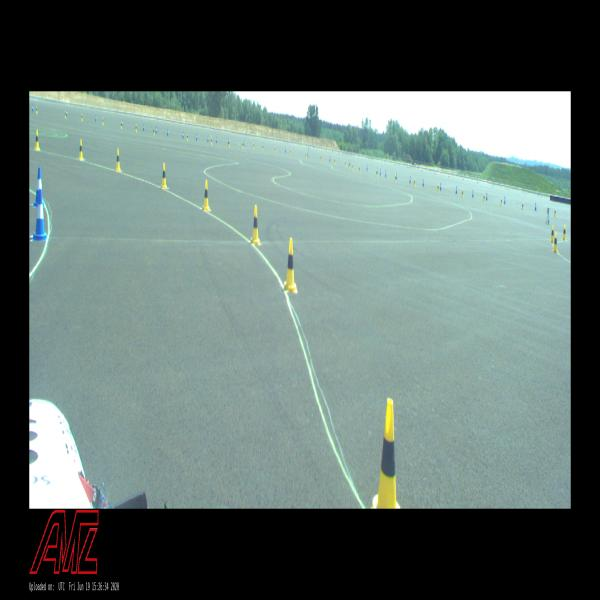blue_cone: (34, 189, 46, 240), (34, 167, 45, 206), (503, 196, 506, 204), (485, 192, 488, 200), (422, 178, 424, 187), (409, 175, 411, 184), (66, 109, 68, 118), (143, 123, 145, 131), (167, 128, 169, 136), (456, 186, 458, 194), (472, 190, 474, 198), (207, 134, 209, 142), (32, 104, 34, 112), (534, 202, 536, 210), (440, 182, 442, 190), (349, 158, 351, 166), (95, 114, 97, 121), (366, 164, 368, 171), (329, 156, 331, 163), (243, 139, 245, 146), (307, 151, 309, 157), (216, 136, 217, 144), (196, 133, 197, 141), (156, 126, 157, 134), (385, 170, 386, 178), (380, 168, 381, 176), (122, 120, 123, 128), (228, 136, 229, 144), (377, 166, 378, 174), (183, 131, 184, 138), (285, 146, 286, 153), (396, 173, 397, 180)
yellow_cone: (372, 399, 400, 508), (284, 238, 296, 290), (251, 205, 260, 244), (202, 180, 210, 210), (161, 163, 167, 189), (115, 148, 121, 172), (78, 139, 84, 160), (553, 232, 558, 253), (35, 130, 40, 150), (550, 225, 554, 243), (562, 225, 566, 241), (413, 178, 416, 187), (120, 121, 123, 129), (462, 188, 464, 198), (186, 133, 188, 142), (484, 193, 486, 202), (437, 184, 439, 193), (153, 127, 155, 136), (136, 124, 138, 132), (358, 165, 360, 173), (500, 197, 502, 205), (522, 202, 524, 210), (228, 140, 230, 148), (275, 146, 277, 153), (36, 106, 38, 113), (334, 157, 336, 164), (344, 160, 346, 167), (102, 117, 104, 124), (554, 209, 556, 216), (262, 144, 264, 151), (320, 154, 322, 161), (305, 151, 307, 158), (351, 163, 353, 170), (348, 162, 350, 169), (210, 138, 212, 144), (81, 114, 83, 120), (395, 173, 396, 182), (376, 170, 377, 178), (65, 110, 66, 118), (242, 142, 243, 148), (290, 149, 291, 155), (253, 143, 254, 149)
